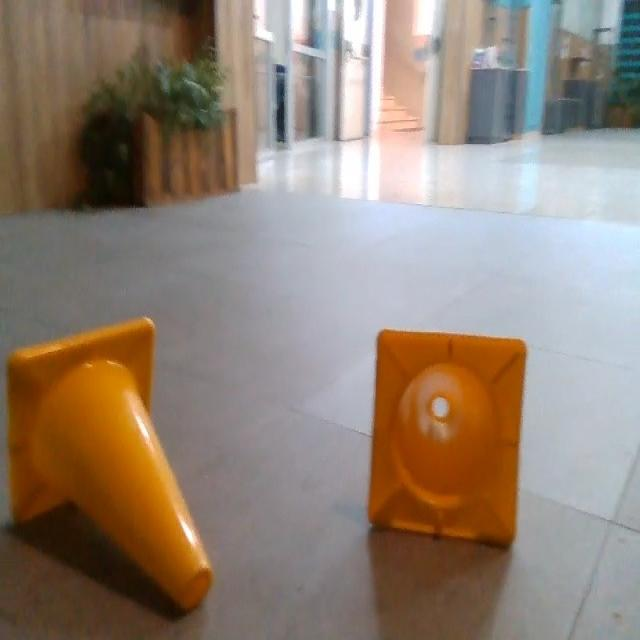cone: (0, 315, 215, 614), (372, 328, 524, 547)
